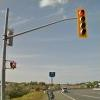Traffic light: (67, 5, 90, 42)
